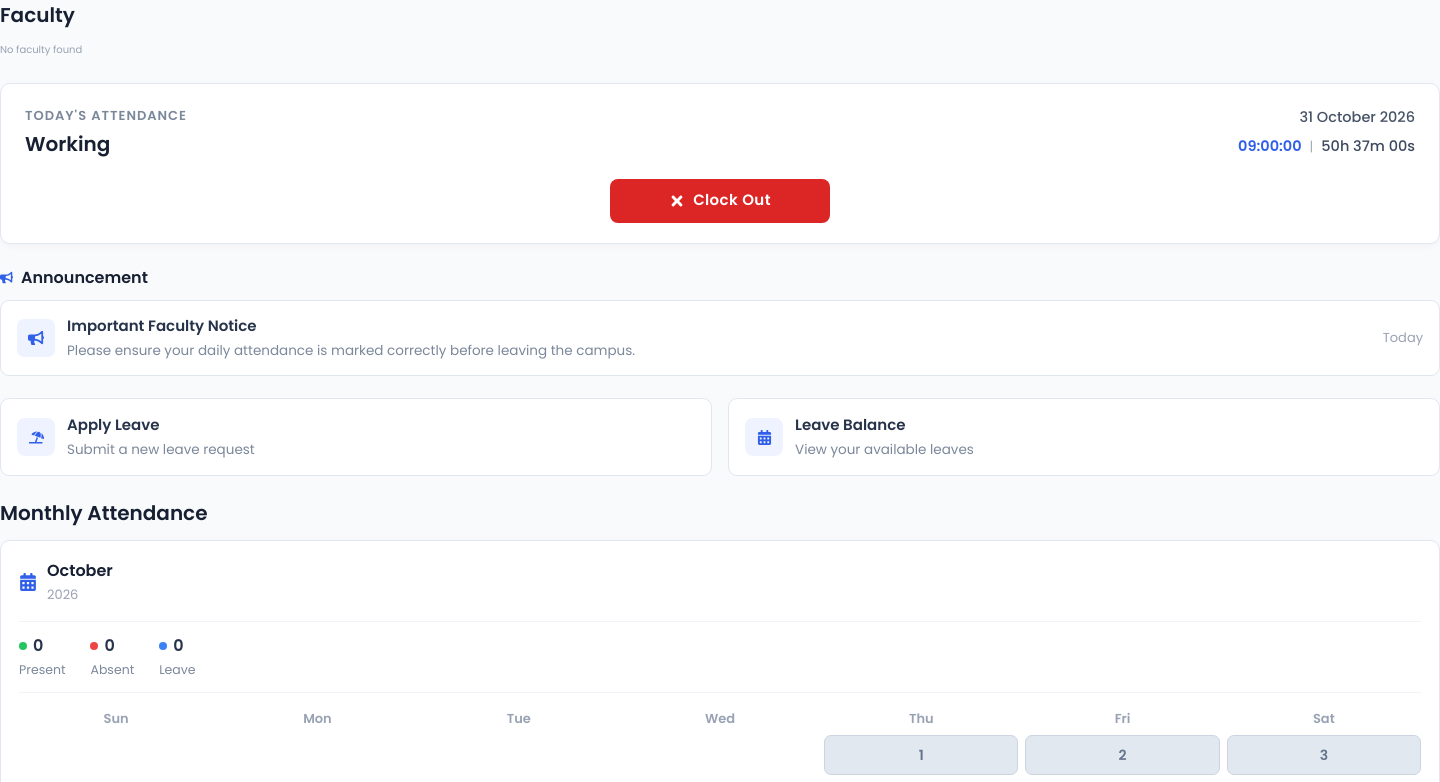
Test: Attendance Punch Workflow & States (HomeTab) › User Interactions and API Handling › surfaces the API error message without faking completion when punch-out fails
This screenshot has width=1440, height=782.
Click the button "Clock Out". click: {"x": 720, "y": 200}
box: [610, 178, 830, 222]
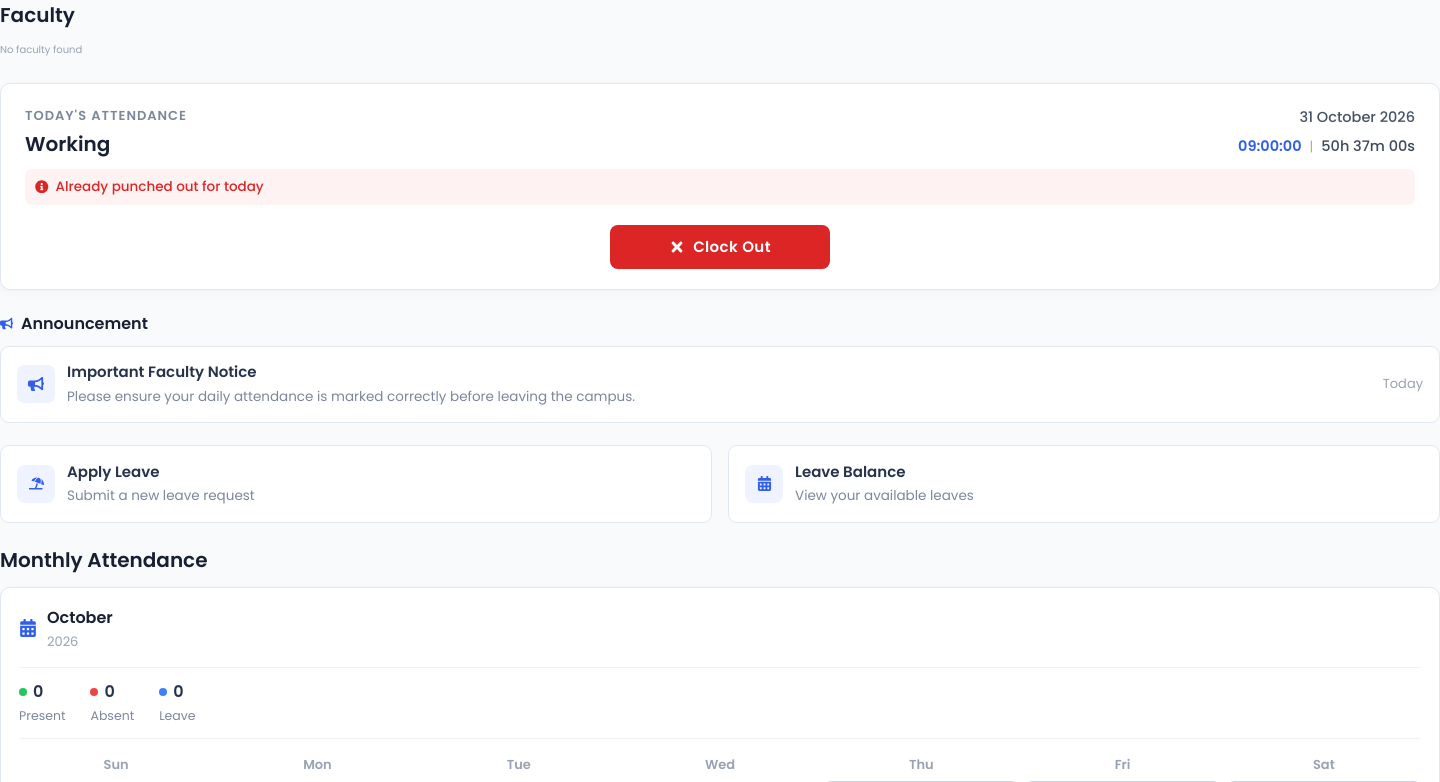
Expected: the text "Already punched out for today" is shown, [56, 176, 264, 197]
